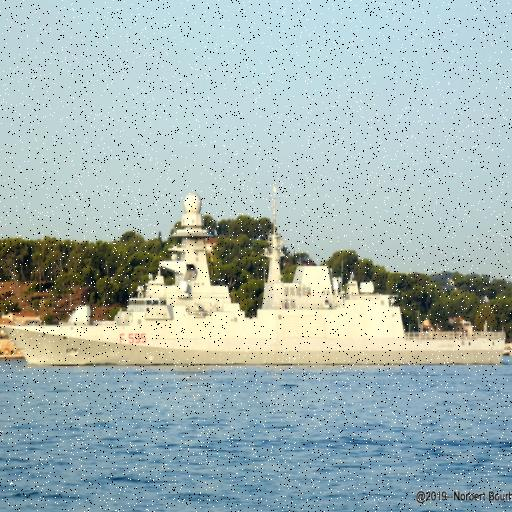Fragata: (1, 184, 510, 371)
